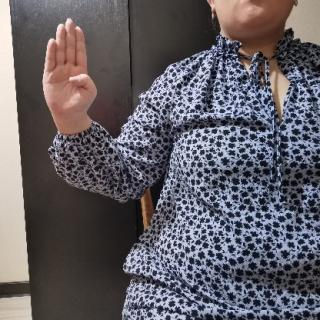KAAF: (37, 14, 100, 126)
